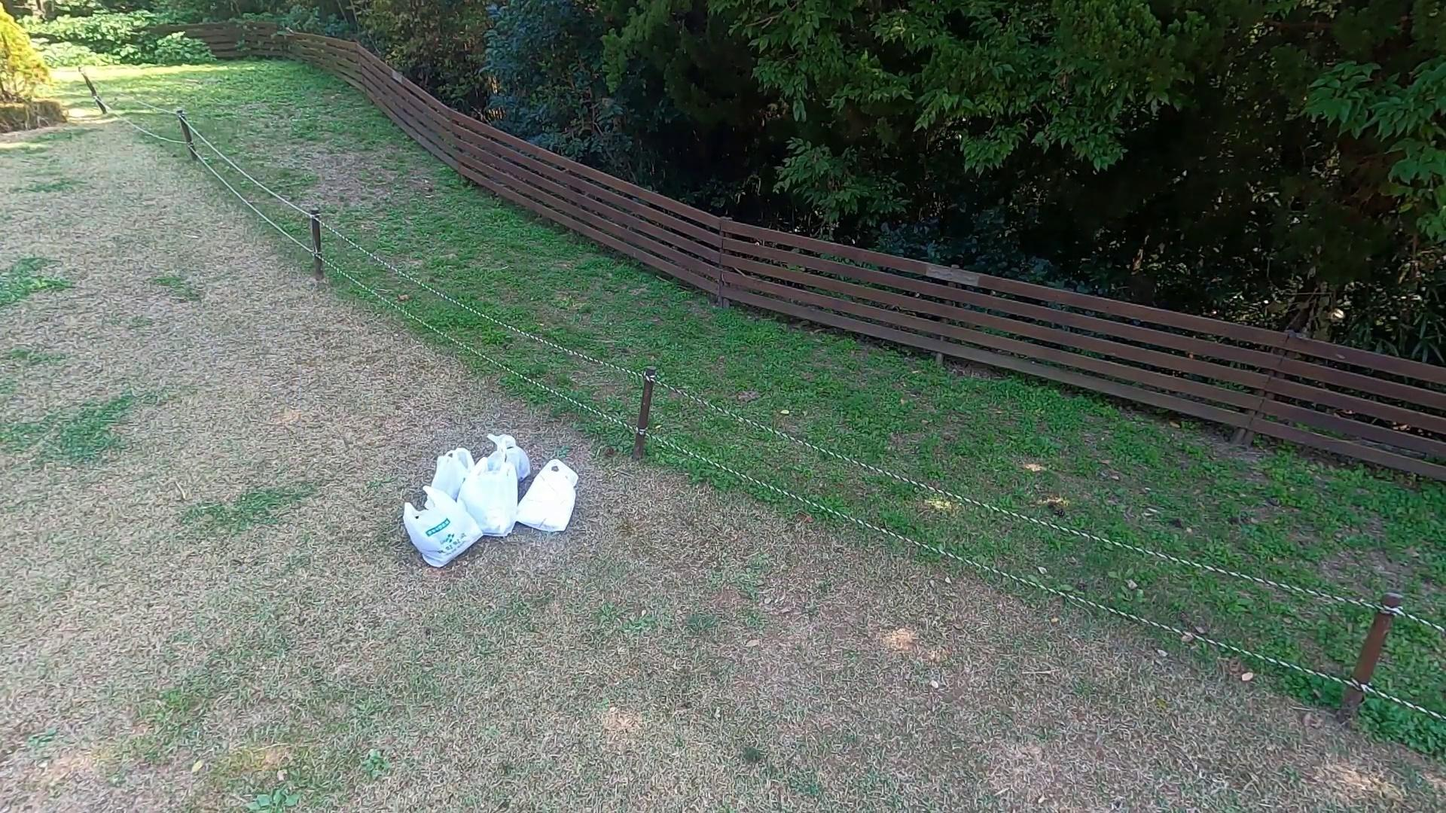trash: (403, 484, 484, 568), (457, 453, 522, 536), (515, 457, 581, 533), (425, 443, 483, 505), (482, 430, 533, 483)
